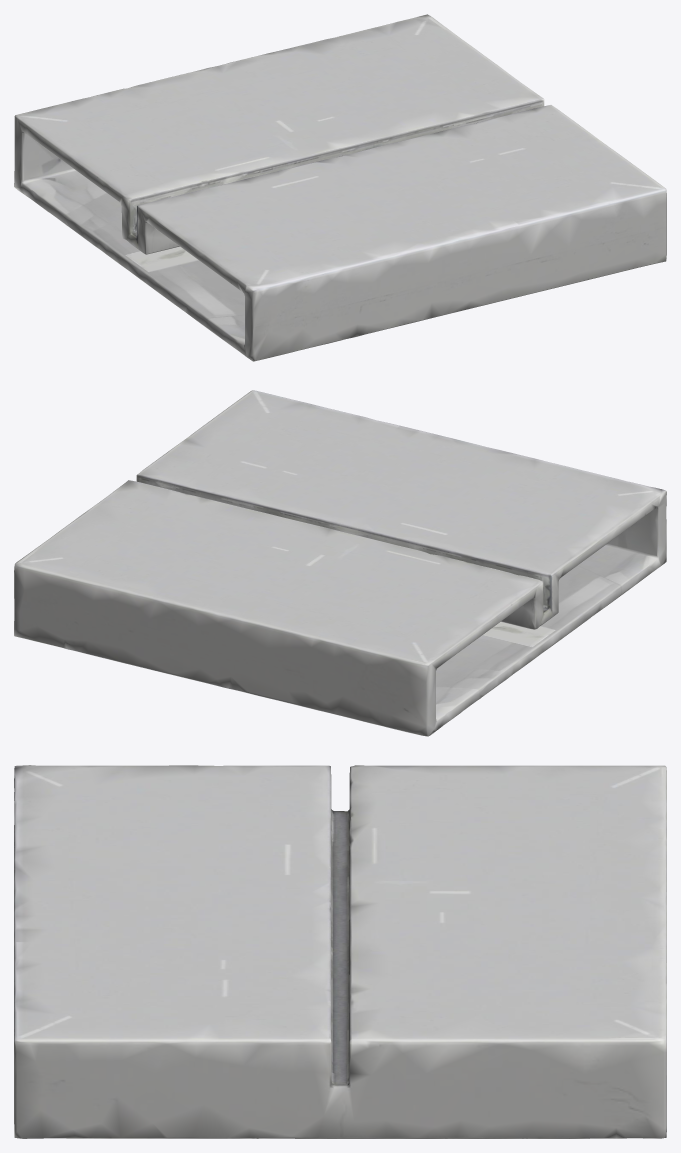
File: Straight_road_segment_1028222555_texture.glb
3 views of the same model, one above another, from view 1: azimuth 30°, elevation 25°; view 2: azimuth 150°, elevation 25°; view 3: azimuth 270°, elevation 25° (orthographic). The views are drawn at different scales.
Visible parts, largest first — view 1: Mesh1.0; view 2: Mesh1.0; view 3: Mesh1.0.
Part boxes in pixels (left/top/right/bottom): Mesh1.0: left=14, top=14, right=666, bottom=361; Mesh1.0: left=14, top=390, right=666, bottom=736; Mesh1.0: left=14, top=765, right=666, bottom=1138.
Size of the model in its own units: 2.01 by 0.3368 by 2.01.
1 material, 1 textured.
